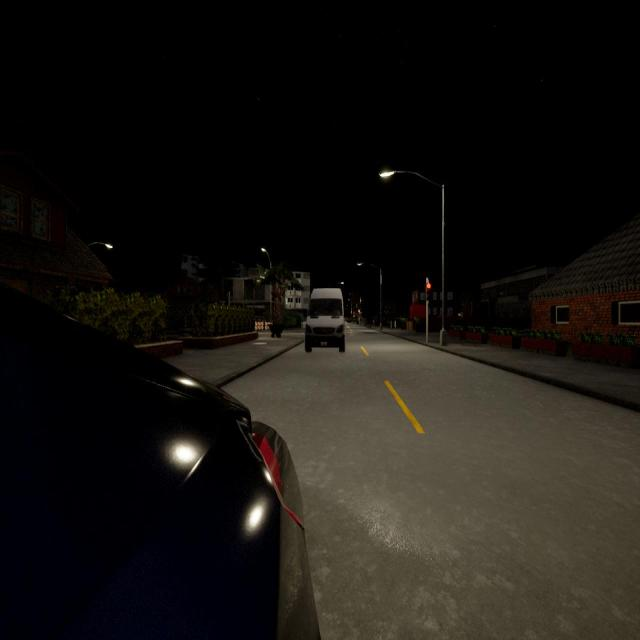Vehicle: (0, 284, 319, 638), (303, 288, 349, 353)
traffic_light: (426, 284, 432, 300)
